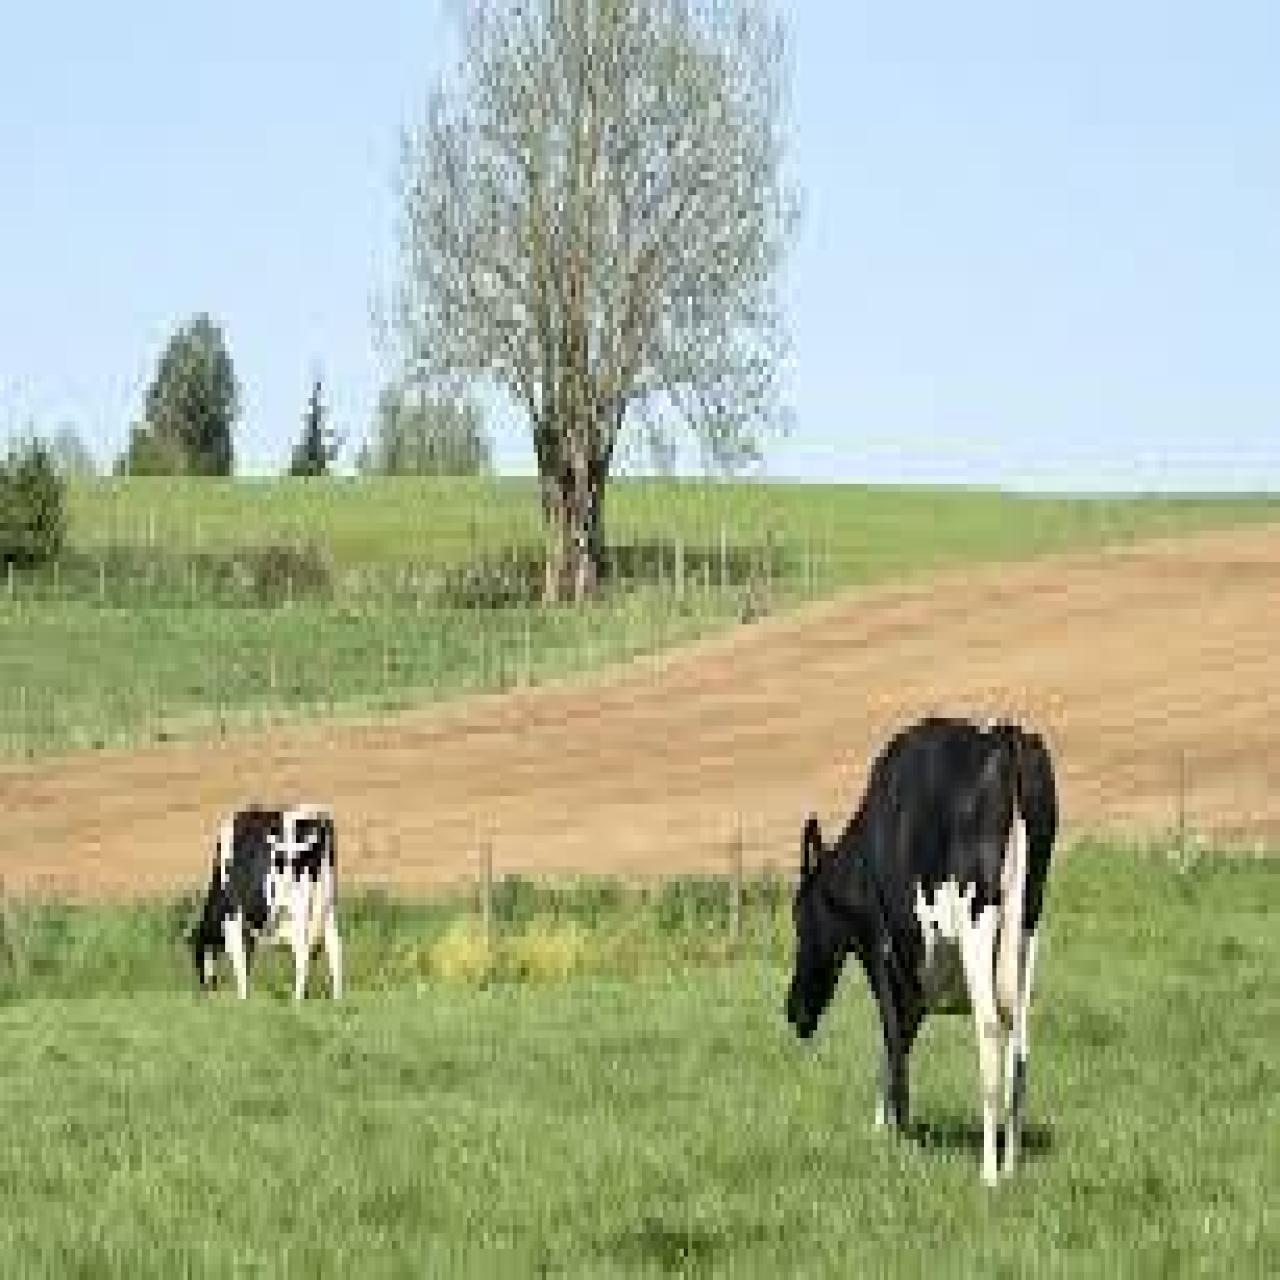cow: (784, 714, 1058, 1183), (182, 808, 343, 1003)
